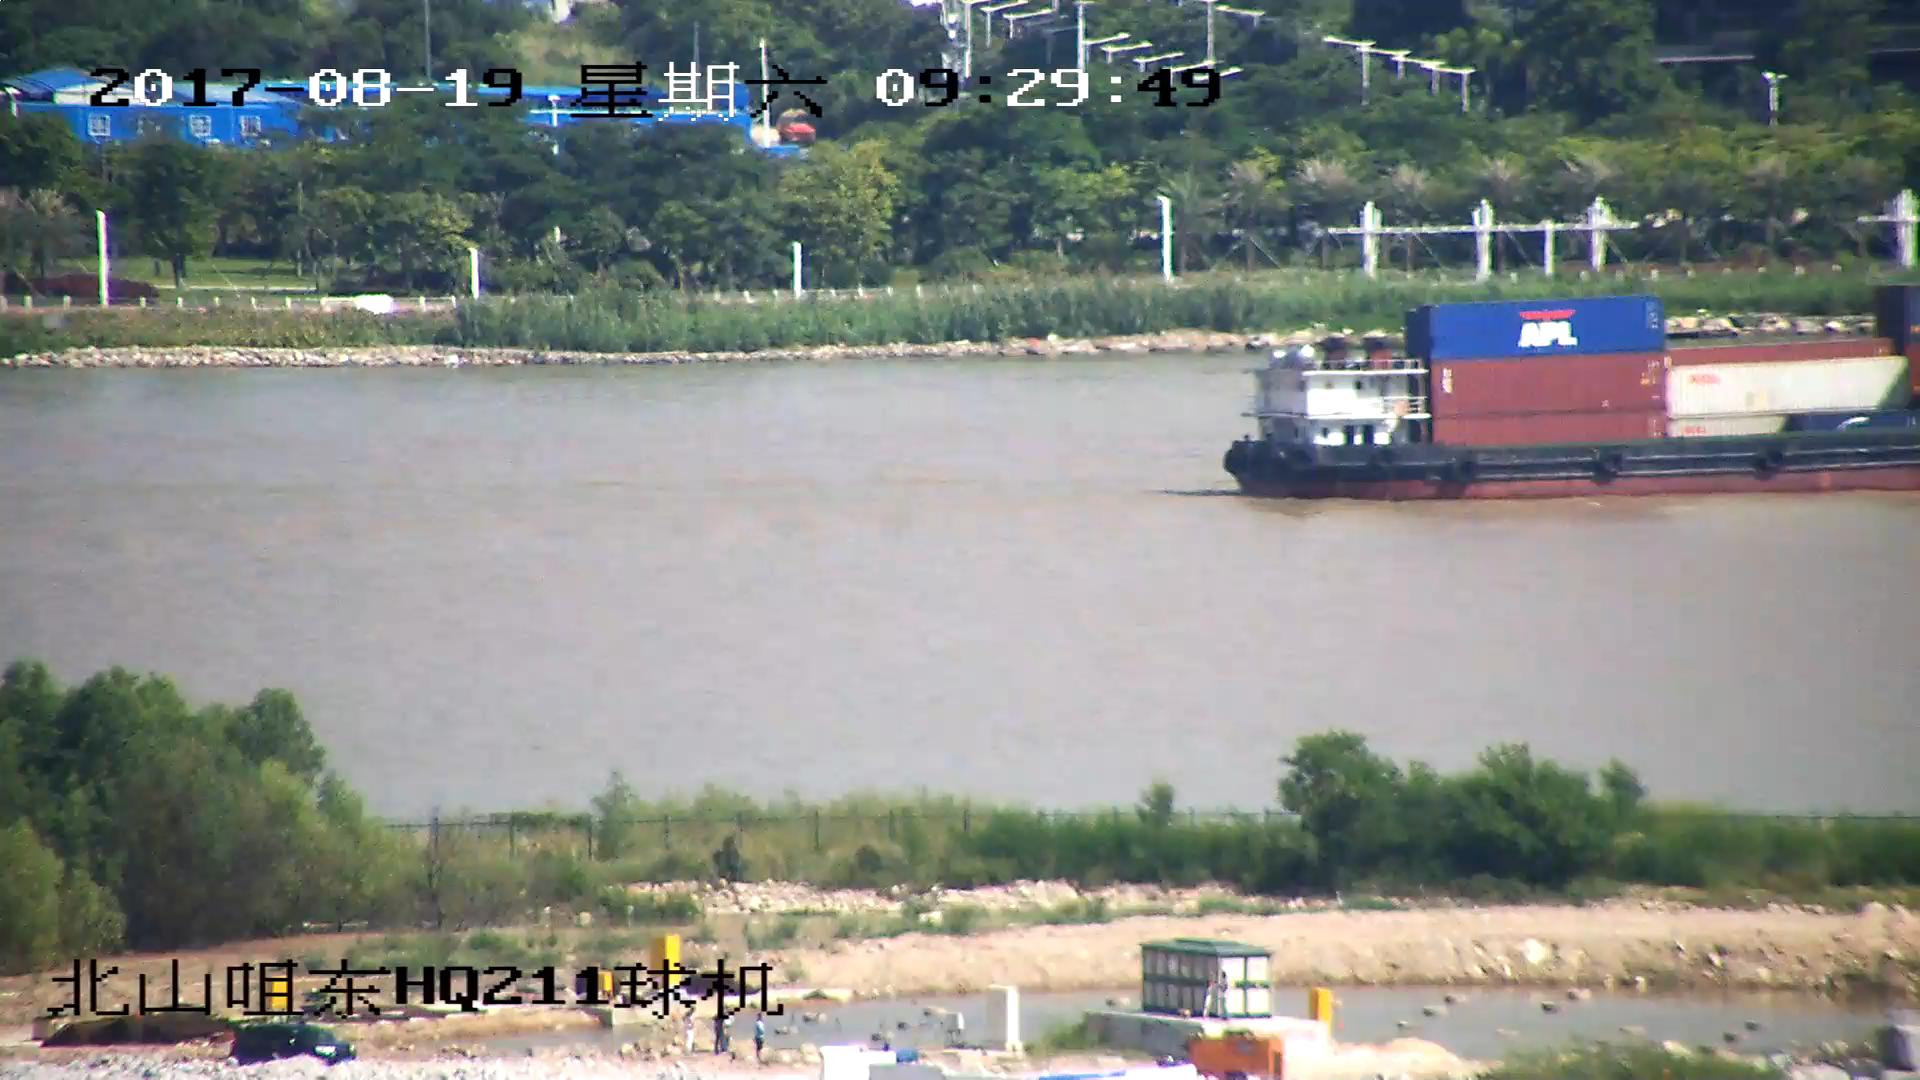container ship: (1231, 306, 1920, 497)
